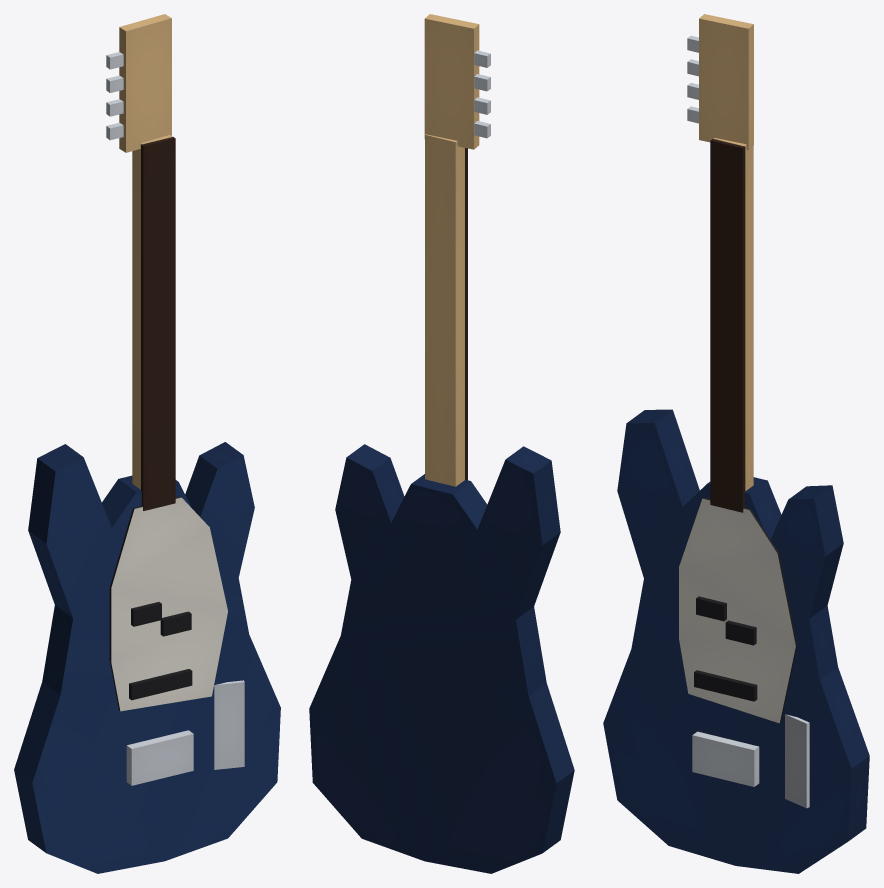
Rendered from BassGuitar.fbx.
3 renders of one model, left to right at view 1: azimuth 30°, elevation 25°; view 2: azimuth 150°, elevation 25°; view 3: azimuth 330°, elevation 25°, orthographic.
Parts seen in each view (by area): view 1: BassGuitar; view 2: BassGuitar; view 3: BassGuitar.
Boxes of the visible parts, x1,y1,x2,y2 form: BassGuitar: (14,14,280,873); BassGuitar: (309,14,574,873); BassGuitar: (603,14,869,873).
Bounding box in the file's own units: 0.353 × 1.14 × 0.0575.
Materials: 1 (1 with a texture image).
